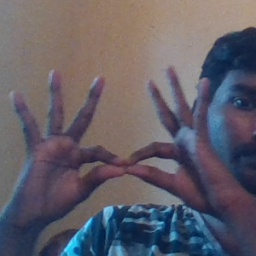B: (53, 107, 199, 212)
